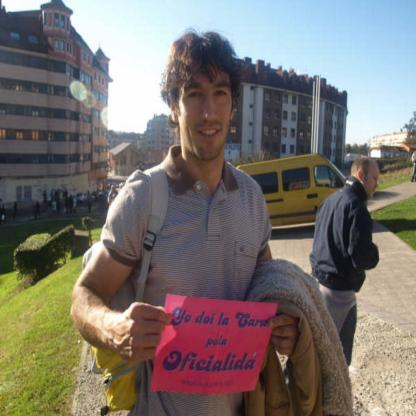Car: (79, 191, 108, 205)
